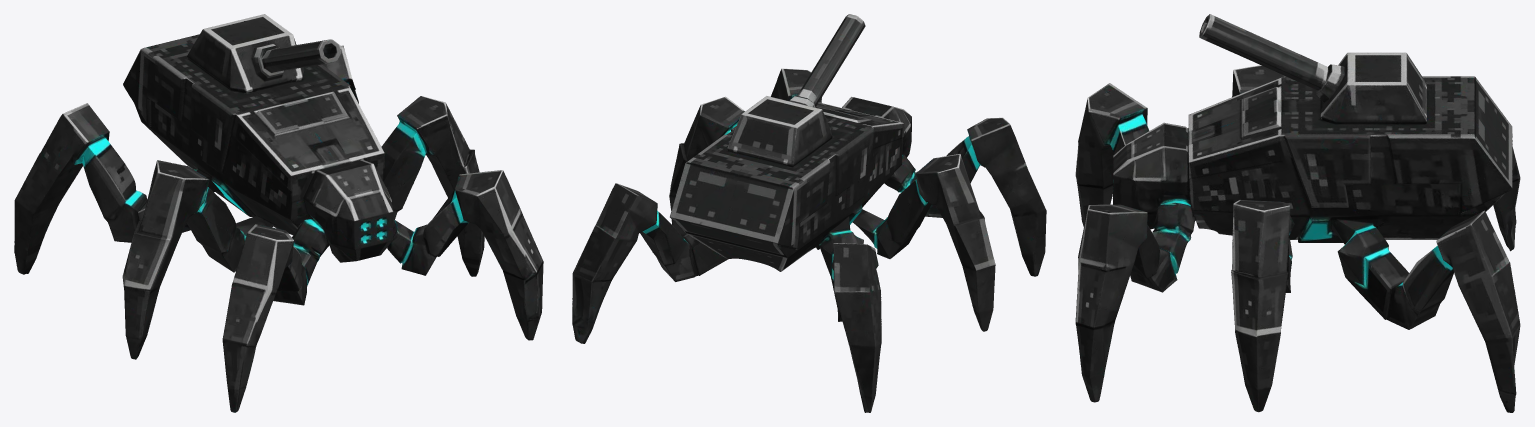
The model's file is boss_spider_tank.glb.
3 renders of one model, left to right at view 1: azimuth 30°, elevation 25°; view 2: azimuth 150°, elevation 25°; view 3: azimuth 270°, elevation 25°, orthographic. The views are drawn at different scales.
Size of the model in its own units: 1.87 by 1.48 by 1.9.
1 material, 1 textured.
